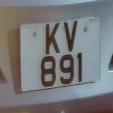1: (74, 50, 86, 87)
8: (36, 52, 60, 89)
9: (56, 51, 77, 88)
K: (43, 19, 64, 55)
V: (62, 17, 81, 52)
